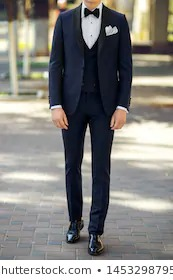F_dress pants: (61, 95, 116, 239)
